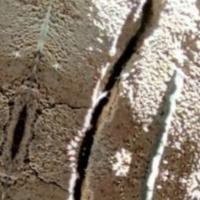crack: (62, 0, 171, 199)
